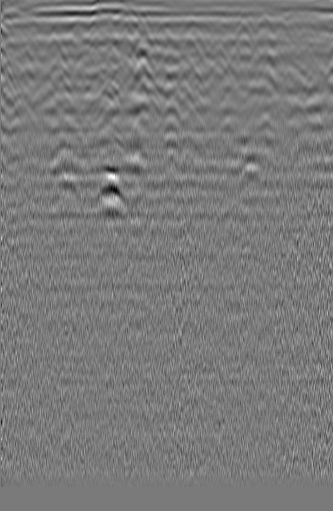가스: (90, 162, 130, 208)
상수: (12, 43, 43, 69)
오수: (293, 42, 326, 67)
우수: (151, 21, 184, 52)
